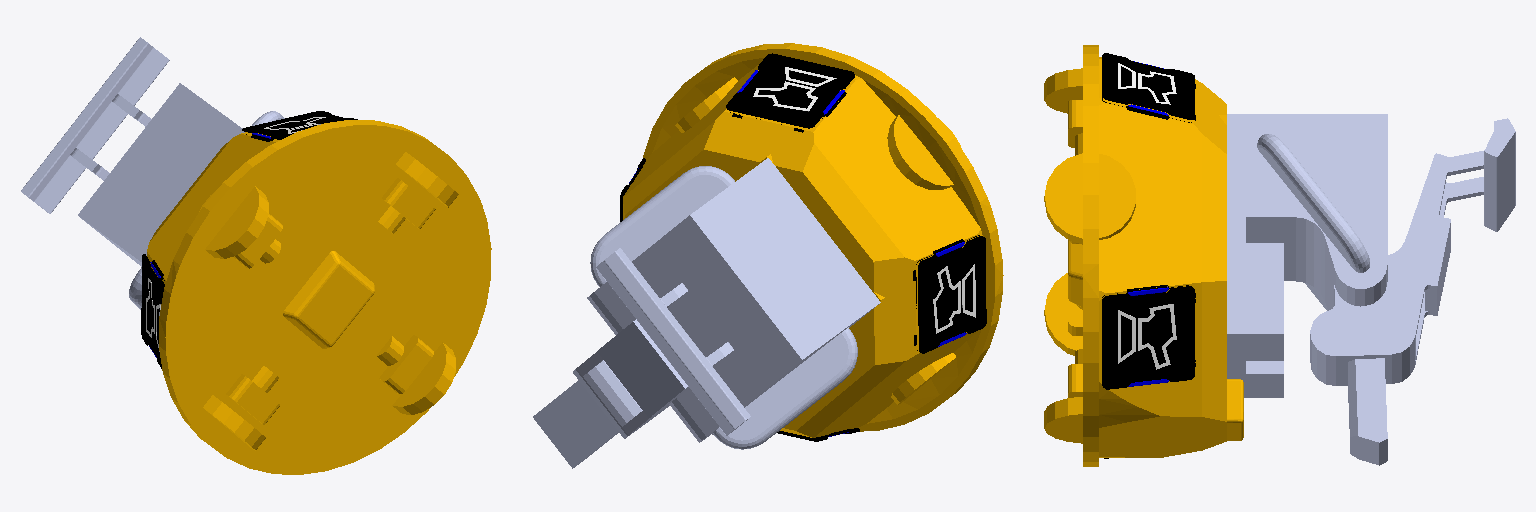
The robot description file, URDF, robot "sentry":
<?xml version="1.0" encoding="utf-8"?>
<!-- This URDF was automatically created by SolidWorks to URDF Exporter! Originally created by [author] ([email redacted]) 
     Commit Version: 1.6.0-4-g7f85cfe  Build Version: 1.6.7995.38578
     For more information, please see http://wiki.ros.org/sw_urdf_exporter -->
<robot
  name="sentry">
  <link
    name="base_link">
    <inertial>
      <origin
        xyz="0.0058961 -0.10415 -0.0060668"
        rpy="0 0 0" />
      <mass
        value="34.39" />
      <inertia
        ixx="0.61402"
        ixy="-0.0072371"
        ixz="0.028313"
        iyy="1.0121"
        iyz="0.0074469"
        izz="0.6124" />
    </inertial>
    <visual>
      <origin
        xyz="0 0 0"
        rpy="0 0 0" />
      <geometry>
        <mesh
          filename="package://sentry/meshes/base_link.STL" />
      </geometry>
      <material
        name="base_link">
        <color
          rgba="0.984 0.737 0.020 1" />
      </material>
    </visual>
    <collision>
      <origin
        xyz="0 0 0"
        rpy="0 0 0" />
      <geometry>
        <mesh
          filename="package://sentry/meshes/base_link.STL" />
      </geometry>
    </collision>
  </link>
  <link
    name="mount_link">
    <inertial>
      <origin
        xyz="-0.021651 0.10215 0.023049"
        rpy="0 0 0" />
      <mass
        value="11.727" />
      <inertia
        ixx="0.11733"
        ixy="0.0063296"
        ixz="0.0020754"
        iyy="0.1403"
        iyz="-0.0054707"
        izz="0.11921" />
    </inertial>
    <visual>
      <origin
        xyz="0 0 0"
        rpy="0 0 0" />
      <geometry>
        <mesh
          filename="package://sentry/meshes/mount_link.STL" />
      </geometry>
      <material
        name="mount_link">
        <color
          rgba="0.79216 0.81961 0.93333 1" />
      </material>
    </visual>
    <collision>
      <origin
        xyz="0 0 0"
        rpy="0 0 0" />
      <geometry>
        <mesh
          filename="package://sentry/meshes/mount_link.STL" />
      </geometry>
    </collision>
  </link>
  <joint
    name="mount_joint"
    type="continuous">
    <origin
      xyz="0 0 0"
      rpy="0 0 0" />
    <parent
      link="base_link" />
    <child
      link="mount_link" />
    <axis
      xyz="0 1 0" />
  </joint>
  <link
    name="turret_link">
    <inertial>
      <origin
        xyz="0.018816 0.04759 -0.018816"
        rpy="0 0 0" />
      <mass
        value="2.2519" />
      <inertia
        ixx="0.028264"
        ixy="0.011098"
        ixz="0.011252"
        iyy="0.031604"
        iyz="-0.011098"
        izz="0.028264" />
    </inertial>
    <visual>
      <origin
        xyz="0 0 0"
        rpy="0 0 0" />
      <geometry>
        <mesh
          filename="package://sentry/meshes/turret_link.STL" />
      </geometry>
      <material
        name="turret_link">
        <color
          rgba="0.79216 0.81961 0.93333 1" />
      </material>
    </visual>
    <collision>
      <origin
        xyz="0 0 0"
        rpy="0 0 0" />
      <geometry>
        <mesh
          filename="package://sentry/meshes/turret_link.STL" />
      </geometry>
    </collision>
  </link>
  <joint
    name="turret_joint"
    type="continuous">
    <origin
      xyz="0.039832730842718 0.175264704336287 -0.0398327308427171"
      rpy="0.0251555330704304 -0.00031643379213156 0.0251555330704238" />
    <parent
      link="mount_link" />
    <child
      link="turret_link" />
    <axis
      xyz="0.707106781186547 0 0.707106781186548" />
  </joint>
  <link
    name="plates_link">
    <inertial>
      <origin
        xyz="1.2306E-09 -0.10279 -8.31E-10"
        rpy="0 0 0" />
      <mass
        value="0.42253" />
      <inertia
        ixx="0.00080558"
        ixy="1.2254E-12"
        ixz="7.2489E-13"
        iyy="0.00061977"
        iyz="-9.8536E-13"
        izz="0.00080558" />
    </inertial>
    <visual>
      <origin
        xyz="0 0 0"
        rpy="0 0 0" />
      <geometry>
        <mesh
          filename="package://sentry/meshes/plates_link.STL" />
      </geometry>
      <material
        name="plates_link">
        <color
          rgba="0 0 0 1" />
      </material>
    </visual>
    <collision>
      <origin
        xyz="0 0 0"
        rpy="0 0 0" />
      <geometry>
        <mesh
          filename="package://sentry/meshes/plates_link.STL" />
      </geometry>
    </collision>
  </link>
  <joint
    name="plates_joint"
    type="fixed">
    <origin
      xyz="0 0 0"
      rpy="0 0 0" />
    <parent
      link="base_link" />
    <child
      link="plates_link" />
    <axis
      xyz="0 0 0" />
  </joint>
  <link
    name="lightbars_link">
    <inertial>
      <origin
        xyz="-4.2633E-14 -0.10205 1.1835E-13"
        rpy="0 0 0" />
      <mass
        value="0.0025567" />
      <inertia
        ixx="5.7029E-07"
        ixy="-9.313E-20"
        ixz="-1.0254E-20"
        iyy="4.7362E-08"
        iyz="9.8106E-20"
        izz="5.7029E-07" />
    </inertial>
    <visual>
      <origin
        xyz="0 0 0"
        rpy="0 0 0" />
      <geometry>
        <mesh
          filename="package://sentry/meshes/lightbars_link.STL" />
      </geometry>
      <material
        name="lightbars_link">
        <color
          rgba="0 0 1 1" />
      </material>
    </visual>
    <collision>
      <origin
        xyz="0 0 0"
        rpy="0 0 0" />
      <geometry>
        <mesh
          filename="package://sentry/meshes/lightbars_link.STL" />
      </geometry>
    </collision>
  </link>
  <joint
    name="lightbars_joint"
    type="fixed">
    <origin
      xyz="0 0 0"
      rpy="0 0 0" />
    <parent
      link="plates_link" />
    <child
      link="lightbars_link" />
    <axis
      xyz="0 0 0" />
  </joint>
  <link
    name="numbers_link">
    <inertial>
      <origin
        xyz="-1.24344978758018E-14 -0.106157934489693 2.44249065417534E-15"
        rpy="0 0 0" />
      <mass
        value="0.000832737644459615" />
      <inertia
        ixx="4.26394453604487E-07"
        ixy="1.9777721123419E-20"
        ixz="5.85188924350639E-21"
        iyy="5.50886885517693E-07"
        iyz="4.29502359759066E-21"
        izz="4.26394453604389E-07" />
    </inertial>
    <visual>
      <origin
        xyz="0 0 0"
        rpy="0 0 0" />
      <geometry>
        <mesh
          filename="package://sentry/meshes/numbers_link.STL" />
      </geometry>
      <material
        name="numbers_link">
        <color
          rgba="1 1 1 1" />
      </material>
    </visual>
    <collision>
      <origin
        xyz="0 0 0"
        rpy="0 0 0" />
      <geometry>
        <mesh
          filename="package://sentry/meshes/numbers_link.STL" />
      </geometry>
    </collision>
  </link>
  <joint
    name="numbers_joint"
    type="fixed">
    <origin
      xyz="0 0 0"
      rpy="0 0 0" />
    <parent
      link="plates_link" />
    <child
      link="numbers_link" />
    <axis
      xyz="0 0 0" />
  </joint>
</robot>

--- What the picture shows (computed from the rendered views, not written in the file) ---
The picture shows the robot from 3 angles, left to right: view 1: azimuth 30°, elevation 25°; view 2: azimuth 150°, elevation 25°; view 3: azimuth 270°, elevation 25°; orthographic projection.
Model sentry with 6 links and 5 joints (2 continuous, 3 fixed), rooted at base_link, posed every joint at zero.
Links seen in each view (by area): view 1: base_link, mount_link, turret_link, plates_link; view 2: base_link, mount_link, turret_link, plates_link, numbers_link; view 3: base_link, mount_link, turret_link, plates_link, numbers_link.
Boxes of the visible links, x1,y1,x2,y2 form: base_link: [147, 120, 491, 474]; mount_link: [78, 83, 284, 309]; turret_link: [21, 37, 169, 213]; plates_link: [141, 111, 357, 368]; base_link: [623, 43, 1003, 437]; mount_link: [587, 158, 880, 449]; turret_link: [533, 248, 750, 468]; plates_link: [620, 53, 986, 441]; numbers_link: [753, 67, 975, 333]; base_link: [1044, 45, 1243, 466]; mount_link: [1227, 114, 1387, 397]; turret_link: [1310, 118, 1515, 465]; plates_link: [1102, 53, 1195, 458]; numbers_link: [1118, 63, 1176, 369].
Size in the robot's own frame: 0.5493 by 0.6144 by 0.5499 metres.
6 mesh visuals loaded from 6 distinct referenced files (6 binary STL).